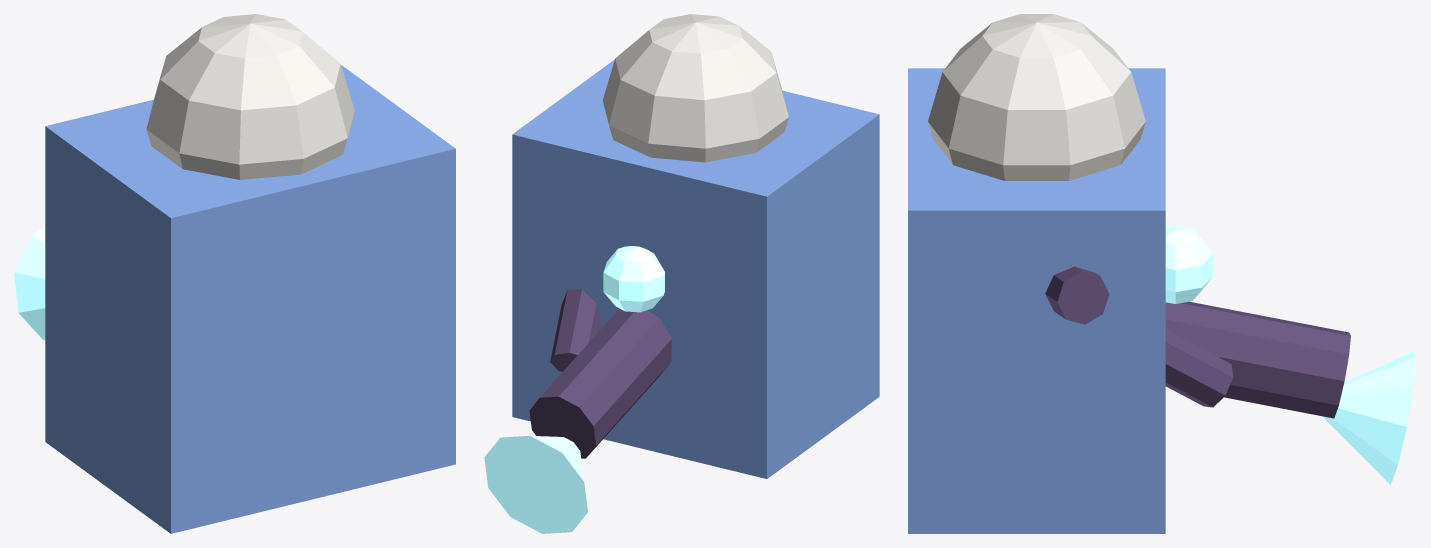
Rendered from tool_vac.glb.
3 views of the same model, side by side, from view 1: azimuth 30°, elevation 25°; view 2: azimuth 150°, elevation 25°; view 3: azimuth 270°, elevation 25° (orthographic). The views are drawn at different scales.
Parts seen in each view (by area): view 1: body, cap, mouth; view 2: body, cap, nozzle, mouth, lamp, hose_b; view 3: body, cap, nozzle, mouth, hose_b, lamp, hose_a.
Part boxes in pixels (box(x1,y1,x2,y2)): body: box(45, 65, 455, 533); cap: box(146, 14, 354, 179); mouth: box(14, 226, 45, 340); body: box(512, 59, 879, 478); cap: box(602, 14, 788, 162); nozzle: box(529, 308, 671, 458); mouth: box(484, 435, 587, 533); lamp: box(603, 246, 664, 312); hose_b: box(550, 289, 602, 371); body: box(908, 68, 1165, 533); cap: box(928, 14, 1145, 180); nozzle: box(1165, 301, 1350, 418); mouth: box(1322, 351, 1416, 484); hose_b: box(1165, 329, 1232, 407); lamp: box(1165, 226, 1213, 303); hose_a: box(1045, 266, 1109, 324).
Size of the model in its own units: 0.374 by 0.5089 by 0.5135.
